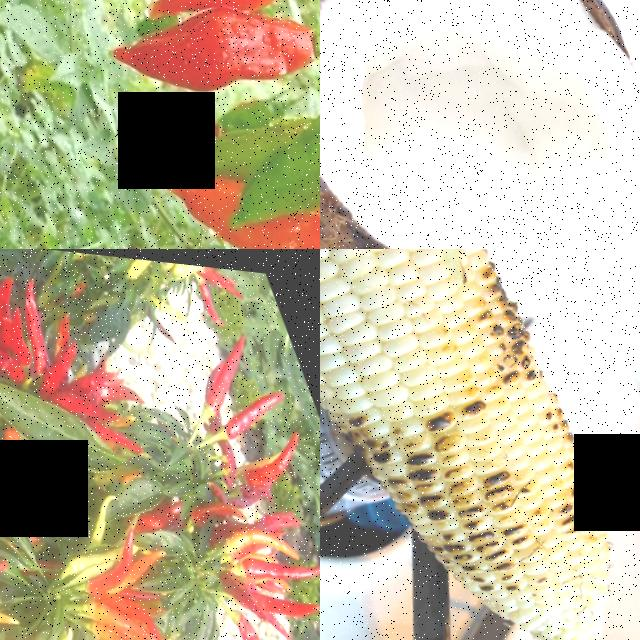chilli: (108, 0, 320, 139), (203, 55, 320, 242), (176, 309, 279, 411), (131, 0, 320, 52), (0, 257, 71, 367), (206, 364, 302, 437), (75, 513, 159, 594), (233, 410, 318, 486), (240, 522, 320, 590), (252, 557, 320, 625), (53, 221, 174, 249), (0, 408, 40, 485), (190, 261, 231, 322), (0, 261, 29, 326), (241, 616, 318, 640), (0, 539, 24, 609), (0, 582, 25, 640)
coconut: (320, 0, 640, 249)
corn: (367, 352, 640, 640), (320, 249, 569, 481)
